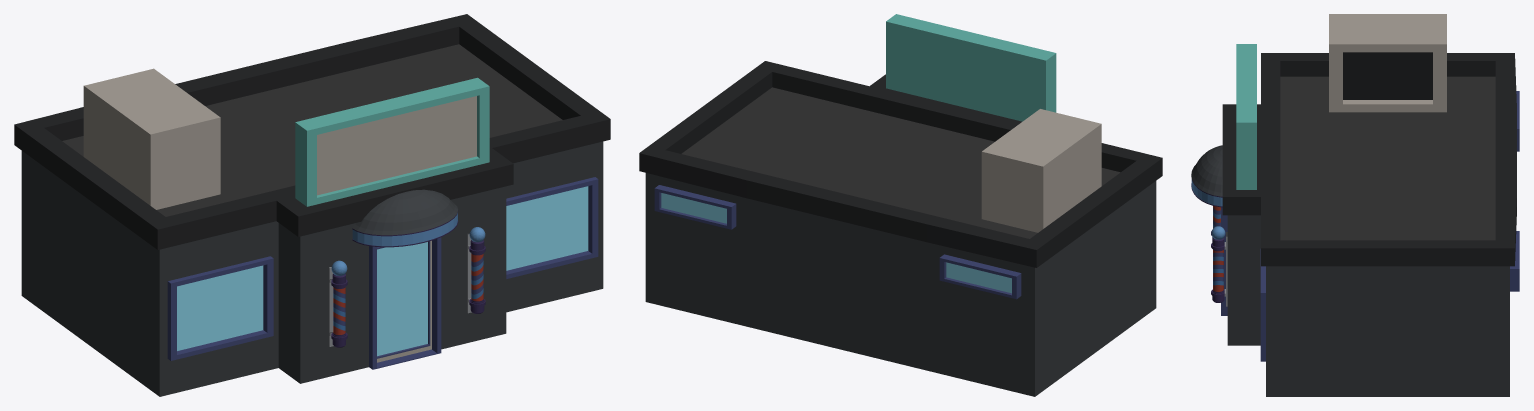
The model's file is SM_Barbershop_02.gltf.
The picture shows the model from 3 angles, left to right: view 1: azimuth 30°, elevation 25°; view 2: azimuth 150°, elevation 25°; view 3: azimuth 270°, elevation 25°; orthographic projection. The views are drawn at different scales.
Parts seen in each view (by area): view 1: SM_Barbershop_02; view 2: SM_Barbershop_02; view 3: SM_Barbershop_02.
Boxes of the visible parts, x1,y1,x2,y2 form: SM_Barbershop_02: (14, 14, 610, 396); SM_Barbershop_02: (639, 14, 1162, 396); SM_Barbershop_02: (1191, 14, 1519, 396).
Bounding box in the file's own units: 4.37 × 2.27 × 3.1.
